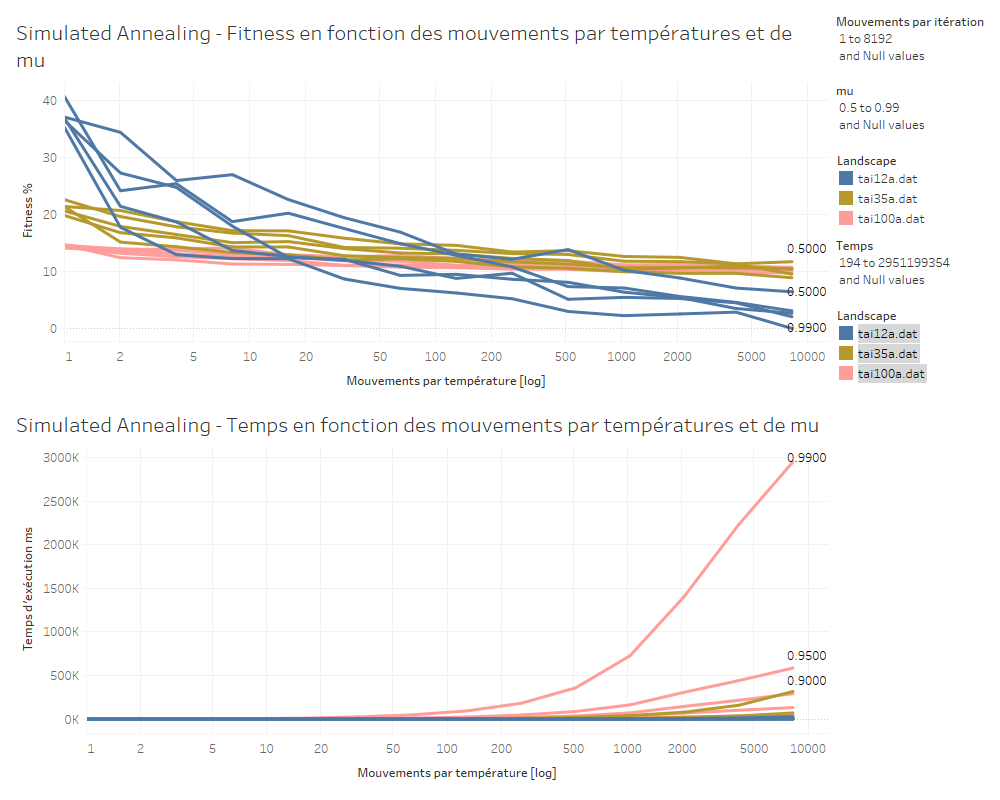

This screenshot's page, from the dashboard's own definition file:
{"tool":"tableau","page":{"name":"Simulated Annealing","canvas":[1000,800],"ordinal":2},"visuals":[{"type":"worksheet","title":"Simulated Annealing - Fitness","mark":"Line","rows":["Calculation_1762314897165549572"],"cols":["F7"],"box":[8,8,824,392]},{"type":"filter","title":"Simulated Annealing - Fitness","param":"[federated.11cgvjm1dvso7714uon5j07z6p7i].[none:F7:qk]","box":[832,8,160,69]},{"type":"filter","title":"Simulated Annealing - Fitness","param":"[federated.11cgvjm1dvso7714uon5j07z6p7i].[none:F5:qk]","box":[832,77,160,69]},{"type":"legend","title":"Simulated Annealing - Fitness","param":"[federated.11cgvjm1dvso7714uon5j07z6p7i].[none:F1:nk]","box":[832,146,160,86]},{"type":"filter","title":"Simulated Annealing - Temps","param":"[federated.11cgvjm1dvso7714uon5j07z6p7i].[none:F11:qk]","box":[832,232,160,69]},{"type":"legend","title":"Simulated Annealing - Temps","param":"[federated.11cgvjm1dvso7714uon5j07z6p7i].[none:F1:nk]","box":[832,301,160,86]},{"type":"worksheet","title":"Simulated Annealing - Temps","mark":"Line","rows":["Calculation_1762314897165619205"],"cols":["F7"],"box":[8,400,824,392]}]}

Visuals, with their boxes in screenshot pixels (x1, y1, x2, y2), scaled from the page's 1000x800 canvas onto the 1000x800 screenshot:
"Simulated Annealing - Fitness" worksheet (Line marks): 8/8/832/400
"Simulated Annealing - Fitness" filter: 832/8/992/77
"Simulated Annealing - Fitness" filter: 832/77/992/146
"Simulated Annealing - Fitness" legend: 832/146/992/232
"Simulated Annealing - Temps" filter: 832/232/992/301
"Simulated Annealing - Temps" legend: 832/301/992/387
"Simulated Annealing - Temps" worksheet (Line marks): 8/400/832/792
